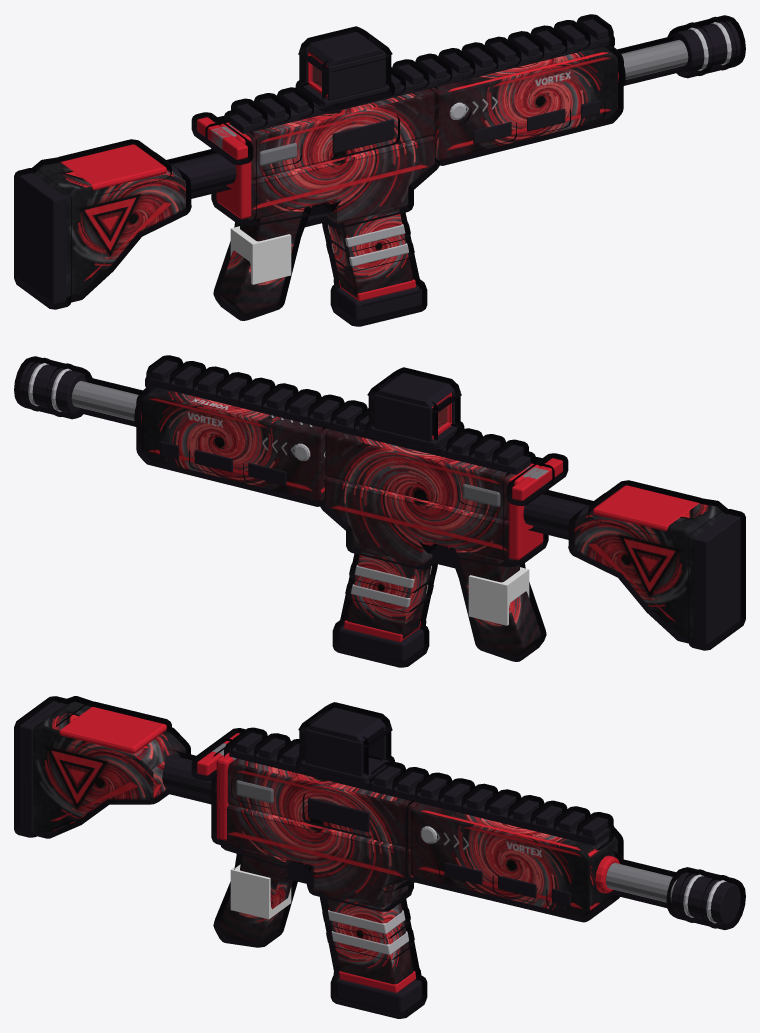
Rendered from Phantom_Vortex.fbx.
3 renders of one model, top to bottom at view 1: azimuth 30°, elevation 25°; view 2: azimuth 150°, elevation 25°; view 3: azimuth 330°, elevation 25°, orthographic.
Parts seen in each view (by area): view 1: Body_Vortex, Body_Noir, Body_Contour, Body_Rouge, Magazine_Vortex, Body_Gris, Root, Magazine_Contour, Magazine_Noir, Magazine_GrisClair, ChargingHandle_Rouge, ChargingHandle_Contour (+2 smaller); view 2: Body_Vortex, Body_Noir, Body_Contour, Body_Rouge, Magazine_Vortex, Body_Gris, Root, Magazine_Contour, Magazine_Noir, Magazine_GrisClair, ChargingHandle_Contour, ChargingHandle_Rouge (+2 smaller); view 3: Body_Vortex, Body_Noir, Body_Contour, Body_Rouge, Magazine_Vortex, Body_Gris, Magazine_Contour, Root, Magazine_Noir, Magazine_GrisClair, Body_GrisClair, Magazine_Rouge (+1 smaller).
Boxes of the visible parts, bbox=[...] form: Body_Vortex: bbox=[33, 46, 617, 315]; Body_Noir: bbox=[19, 19, 740, 304]; Body_Contour: bbox=[14, 14, 745, 320]; Body_Rouge: bbox=[60, 51, 618, 219]; Magazine_Vortex: bbox=[328, 209, 413, 297]; Body_Gris: bbox=[259, 40, 688, 165]; Root: bbox=[230, 226, 291, 284]; Magazine_Contour: bbox=[322, 207, 427, 326]; Magazine_Noir: bbox=[336, 284, 421, 321]; Magazine_GrisClair: bbox=[328, 224, 408, 266]; ChargingHandle_Rouge: bbox=[197, 117, 247, 159]; ChargingHandle_Contour: bbox=[191, 112, 253, 164]; Body_Vortex: bbox=[142, 387, 726, 656]; Body_Noir: bbox=[19, 360, 740, 645]; Body_Contour: bbox=[14, 355, 745, 661]; Body_Rouge: bbox=[141, 392, 699, 560]; Magazine_Vortex: bbox=[346, 550, 431, 638]; Body_Gris: bbox=[71, 381, 500, 506]; Root: bbox=[468, 567, 529, 625]; Magazine_Contour: bbox=[332, 548, 437, 667]; Magazine_Noir: bbox=[338, 625, 423, 662]; Magazine_GrisClair: bbox=[351, 565, 431, 607]; ChargingHandle_Contour: bbox=[506, 453, 568, 505]; ChargingHandle_Rouge: bbox=[512, 458, 562, 500]; Body_Vortex: bbox=[33, 701, 617, 942]; Body_Noir: bbox=[19, 701, 740, 924]; Body_Contour: bbox=[14, 696, 745, 947]; Body_Rouge: bbox=[59, 707, 619, 893]; Magazine_Vortex: bbox=[325, 893, 413, 984]; Body_Gris: bbox=[236, 780, 677, 902]; Magazine_Contour: bbox=[318, 891, 427, 1018]; Root: bbox=[230, 864, 291, 919]; Magazine_Noir: bbox=[336, 977, 421, 1013]; Magazine_GrisClair: bbox=[328, 910, 408, 954]; Body_GrisClair: bbox=[420, 826, 726, 923]; Magazine_Rouge: bbox=[339, 971, 415, 992].
Bounding box in the file's own units: 3.66 × 1.39 × 0.4169.
17 materials, 2 textured.
